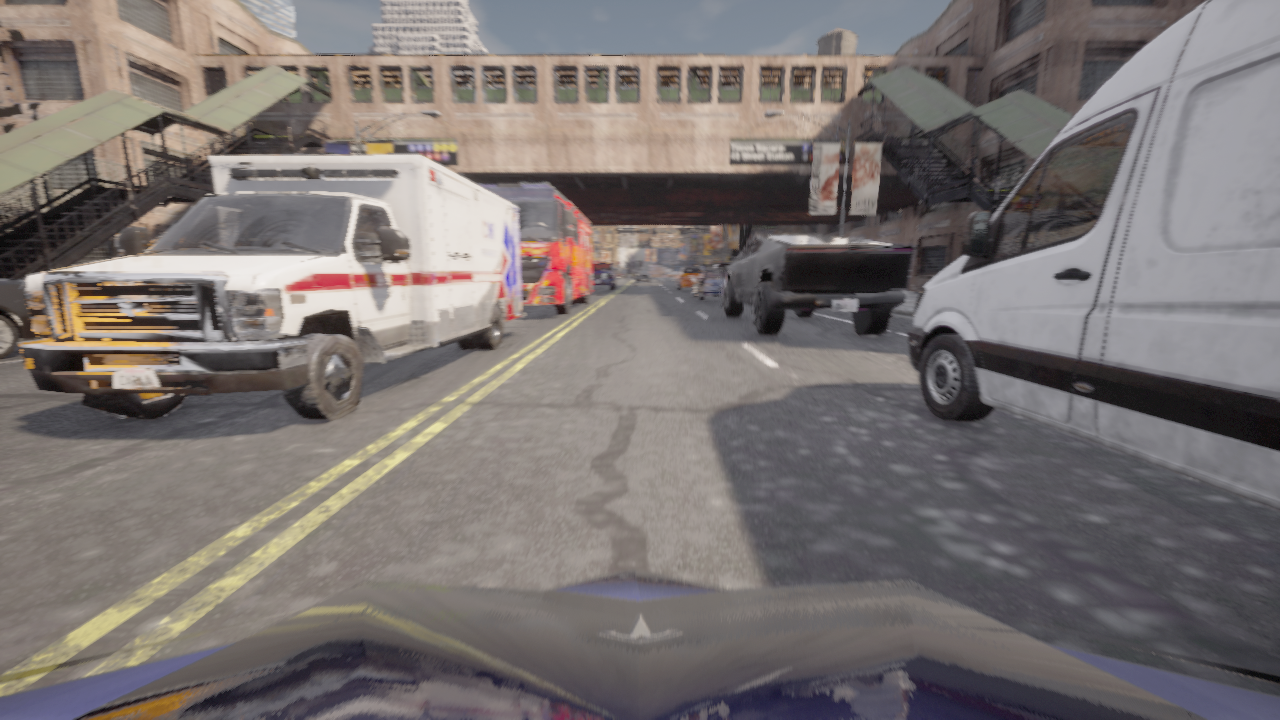cyclist: (0, 569, 1279, 719), (908, 0, 1279, 509), (20, 154, 524, 419), (721, 234, 914, 335), (477, 181, 592, 314), (692, 269, 727, 300), (592, 262, 617, 290), (676, 267, 702, 290), (634, 271, 651, 283), (711, 263, 731, 268), (621, 273, 623, 277), (617, 273, 619, 276)
